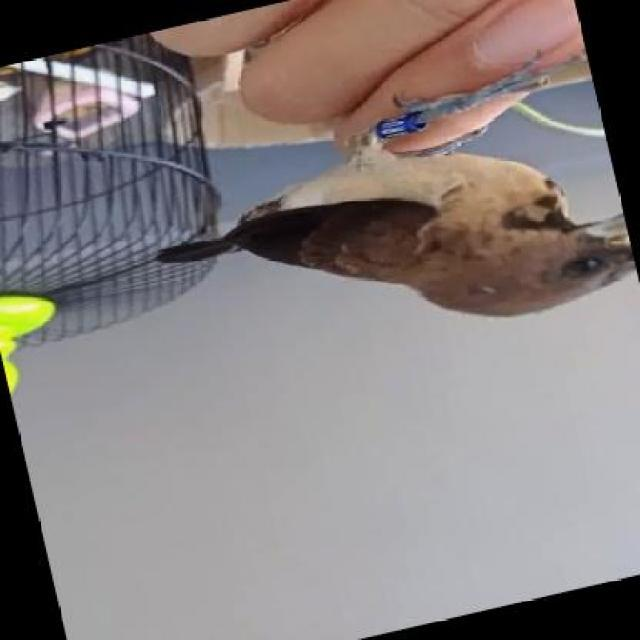Bird: (142, 100, 633, 369)
